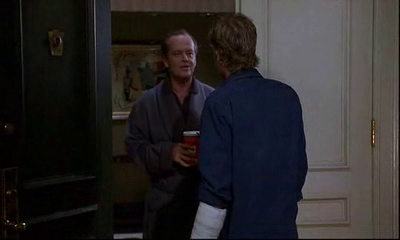face: (169, 43, 196, 79)
ms: (1, 1, 400, 240)
person: (190, 12, 308, 239), (125, 29, 216, 239)
